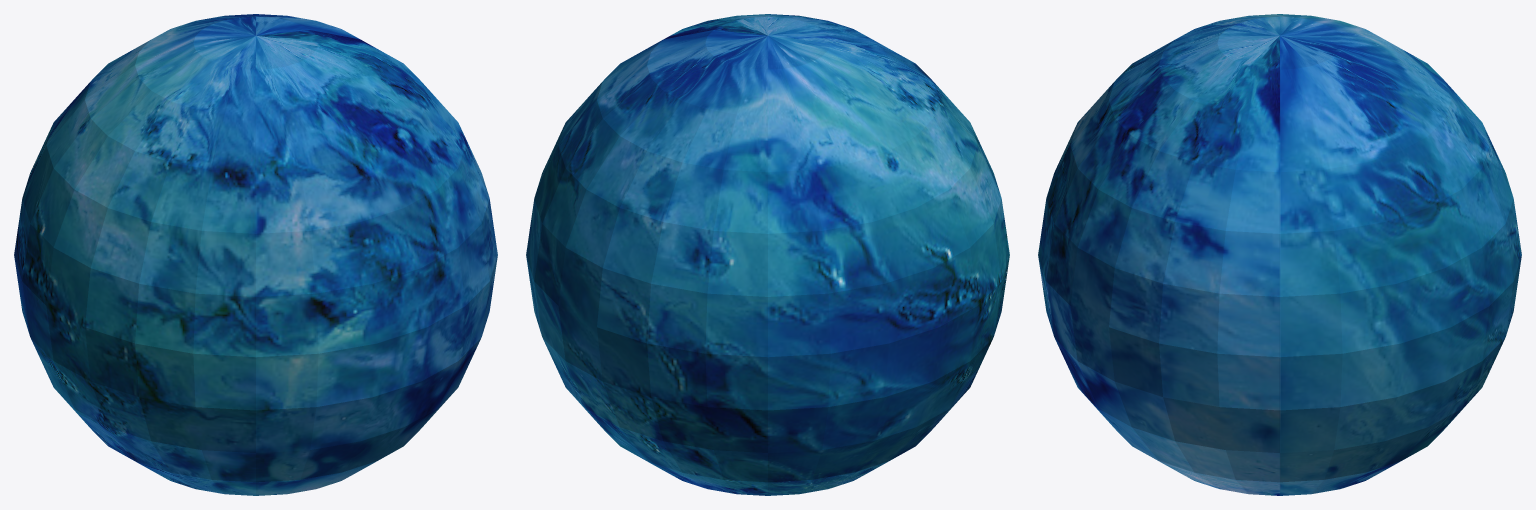
File: Urano.obj
The picture shows the model from 3 angles, left to right: view 1: azimuth 30°, elevation 25°; view 2: azimuth 150°, elevation 25°; view 3: azimuth 270°, elevation 25°; orthographic projection.
Visible parts, largest first — view 1: polySurface14 polySurface13 polySurface10 polySurface8 polySurfa; view 2: polySurface14 polySurface13 polySurface10 polySurface8 polySurfa; view 3: polySurface14 polySurface13 polySurface10 polySurface8 polySurfa.
Part boxes in pixels (x1,y1,x2,y2): polySurface14 polySurface13 polySurface10 polySurface8 polySurfa: (14, 14, 497, 495); polySurface14 polySurface13 polySurface10 polySurface8 polySurfa: (526, 14, 1009, 495); polySurface14 polySurface13 polySurface10 polySurface8 polySurfa: (1038, 14, 1521, 495).
Bounding box in the file's own units: 1.57 × 1.57 × 1.57.
Materials: 1 (1 with a texture image).
